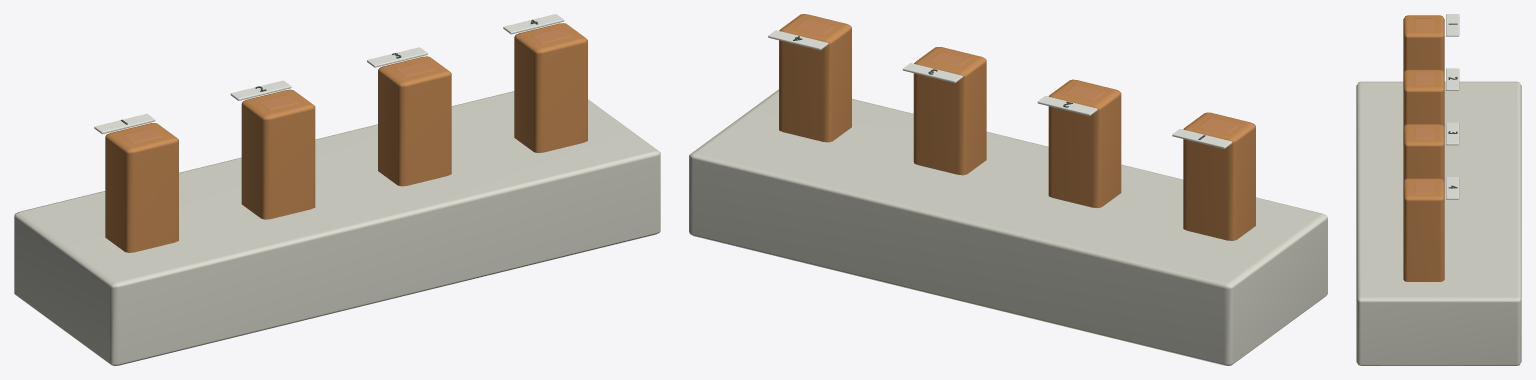
Rendered from terminal_comb-busbar.glb.
3 views of the same model, side by side, from view 1: azimuth 30°, elevation 25°; view 2: azimuth 150°, elevation 25°; view 3: azimuth 270°, elevation 25° (orthographic). The views are drawn at different scales.
Parts seen in each view (by area): view 1: node-4, node-3 · Original material.001, Moulded terminal legend pad, Moulded terminal legend pad.003, Moulded terminal legend pad.002, Moulded terminal legend pad.001; view 2: node-4, node-3 · Original material.001, Moulded terminal legend pad, Moulded terminal legend pad.002, Moulded terminal legend pad.003, Moulded terminal legend pad.001; view 3: node-4, node-3 · Original material.001, Moulded terminal legend pad.002, Moulded terminal legend pad, Moulded terminal legend pad.001, Moulded terminal legend pad.003, Square copper clamping blade.002, Square copper clamping blade, Square copper clamping blade.003, Square copper clamping blade.001.
Boxes of the visible parts, <box> form: node-4: <box>14,91,660,365</box>; node-3 · Original material.001: <box>105,23,587,252</box>; Moulded terminal legend pad: <box>94,114,155,134</box>; Moulded terminal legend pad.003: <box>503,14,564,34</box>; Moulded terminal legend pad.002: <box>367,47,427,67</box>; Moulded terminal legend pad.001: <box>230,80,291,100</box>; node-4: <box>689,89,1327,365</box>; node-3 · Original material.001: <box>779,14,1255,240</box>; Moulded terminal legend pad: <box>1172,129,1232,148</box>; Moulded terminal legend pad.002: <box>902,63,962,83</box>; Moulded terminal legend pad.003: <box>768,30,828,50</box>; Moulded terminal legend pad.001: <box>1037,96,1097,115</box>; node-4: <box>1356,81,1521,365</box>; node-3 · Original material.001: <box>1403,15,1444,281</box>; Moulded terminal legend pad.002: <box>1446,122,1459,145</box>; Moulded terminal legend pad: <box>1446,14,1459,36</box>; Moulded terminal legend pad.001: <box>1446,68,1459,90</box>; Moulded terminal legend pad.003: <box>1446,177,1459,199</box>; Square copper clamping blade.002: <box>1414,127,1433,139</box>; Square copper clamping blade: <box>1414,18,1433,30</box>; Square copper clamping blade.003: <box>1414,181,1433,193</box>; Square copper clamping blade.001: <box>1414,73,1433,84</box>.
Bounding box in the file's own units: 0.97 × 0.3138 × 0.308.
